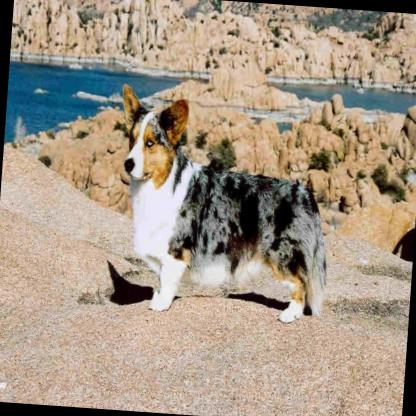Cardigan: (104, 81, 340, 326)
